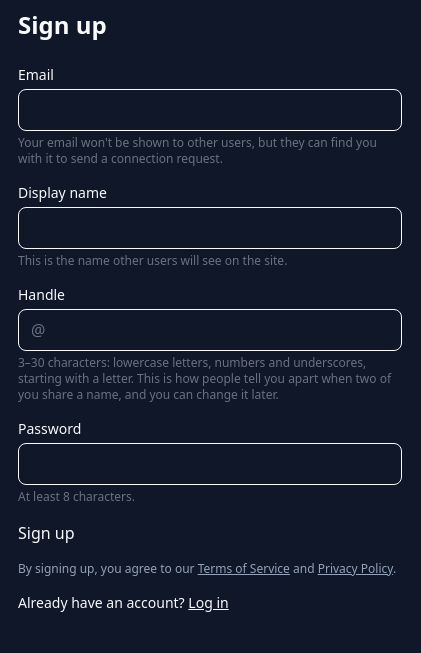
Test: SignupPage › puts a 422 about the handle under the handle input
Step 1. Type "x@y.com" into the field labelled "Email" → (210, 110), box [18,89,402,131]
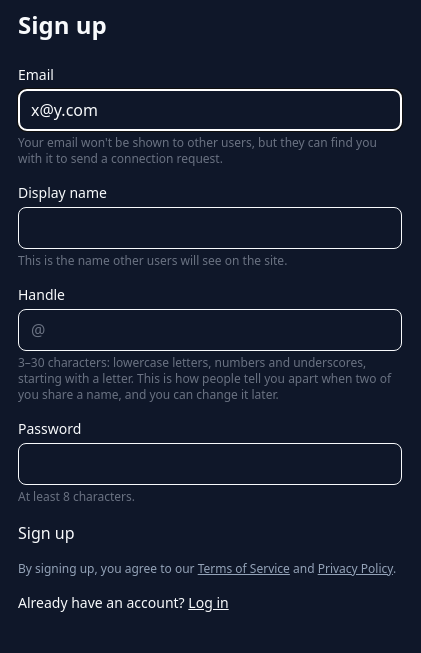
Step 2. Type "X" into the field labelled "Display name" → (210, 228), box [18,207,402,249]
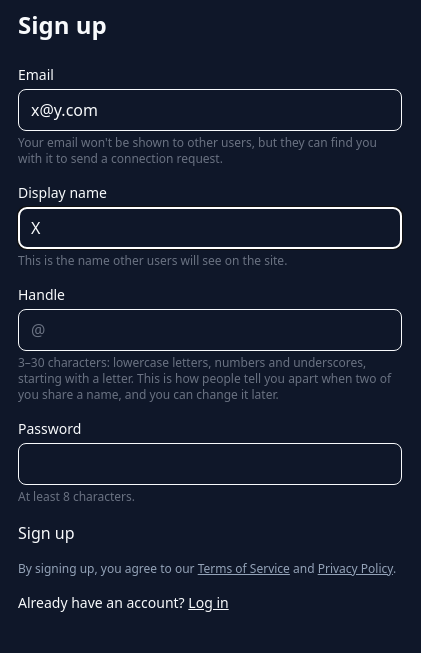
Step 3. Type "x_user" into the field labelled "Handle" → (223, 330), box [45,310,401,350]
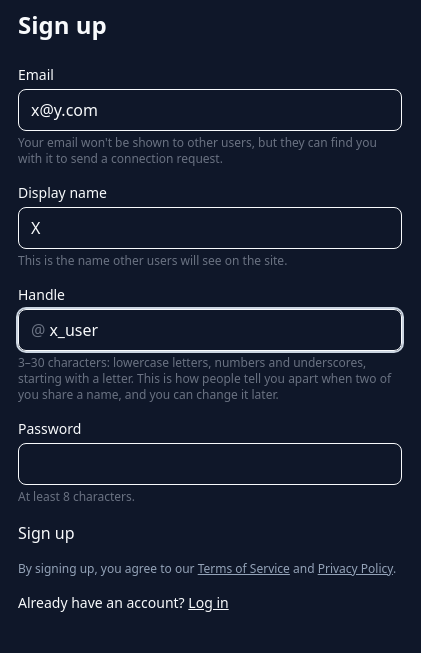
Step 4. Type "hunter2hunter2" into the password field labelled "Password" → (210, 464), box [18,443,402,485]
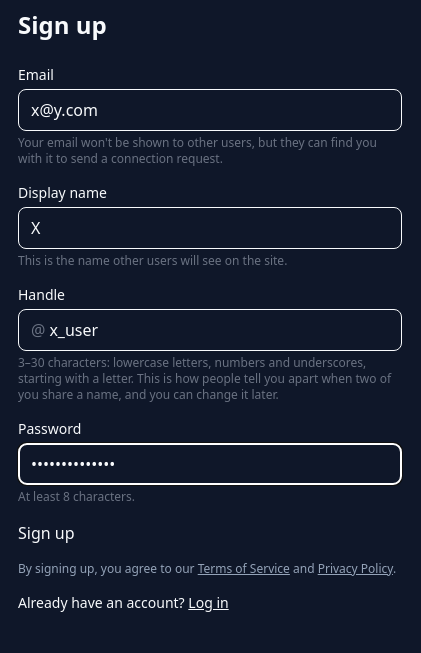
Step 5. Click the button "Sign up" → (46, 533), box [18,521,74,545]
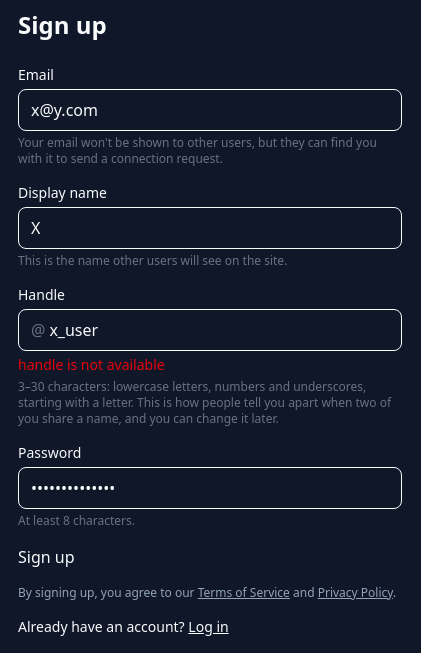
Expected: the text "handle is not available" is shown, [18,355,165,374]
